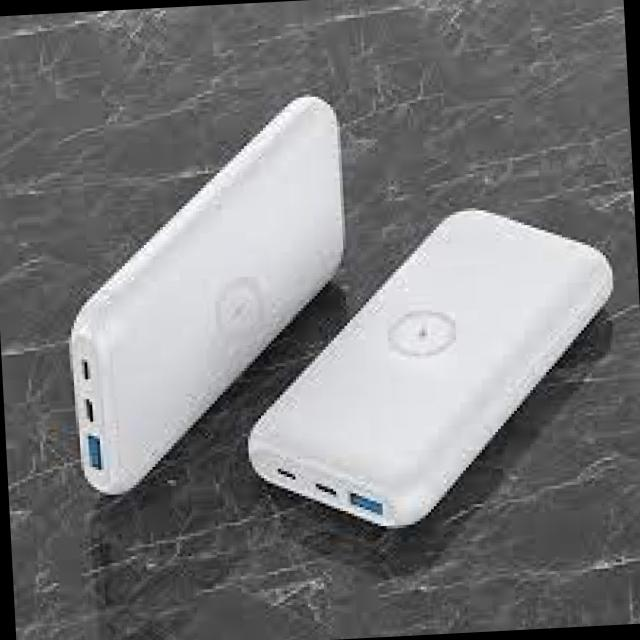portable-charger: (233, 190, 634, 544), (52, 86, 372, 507)
